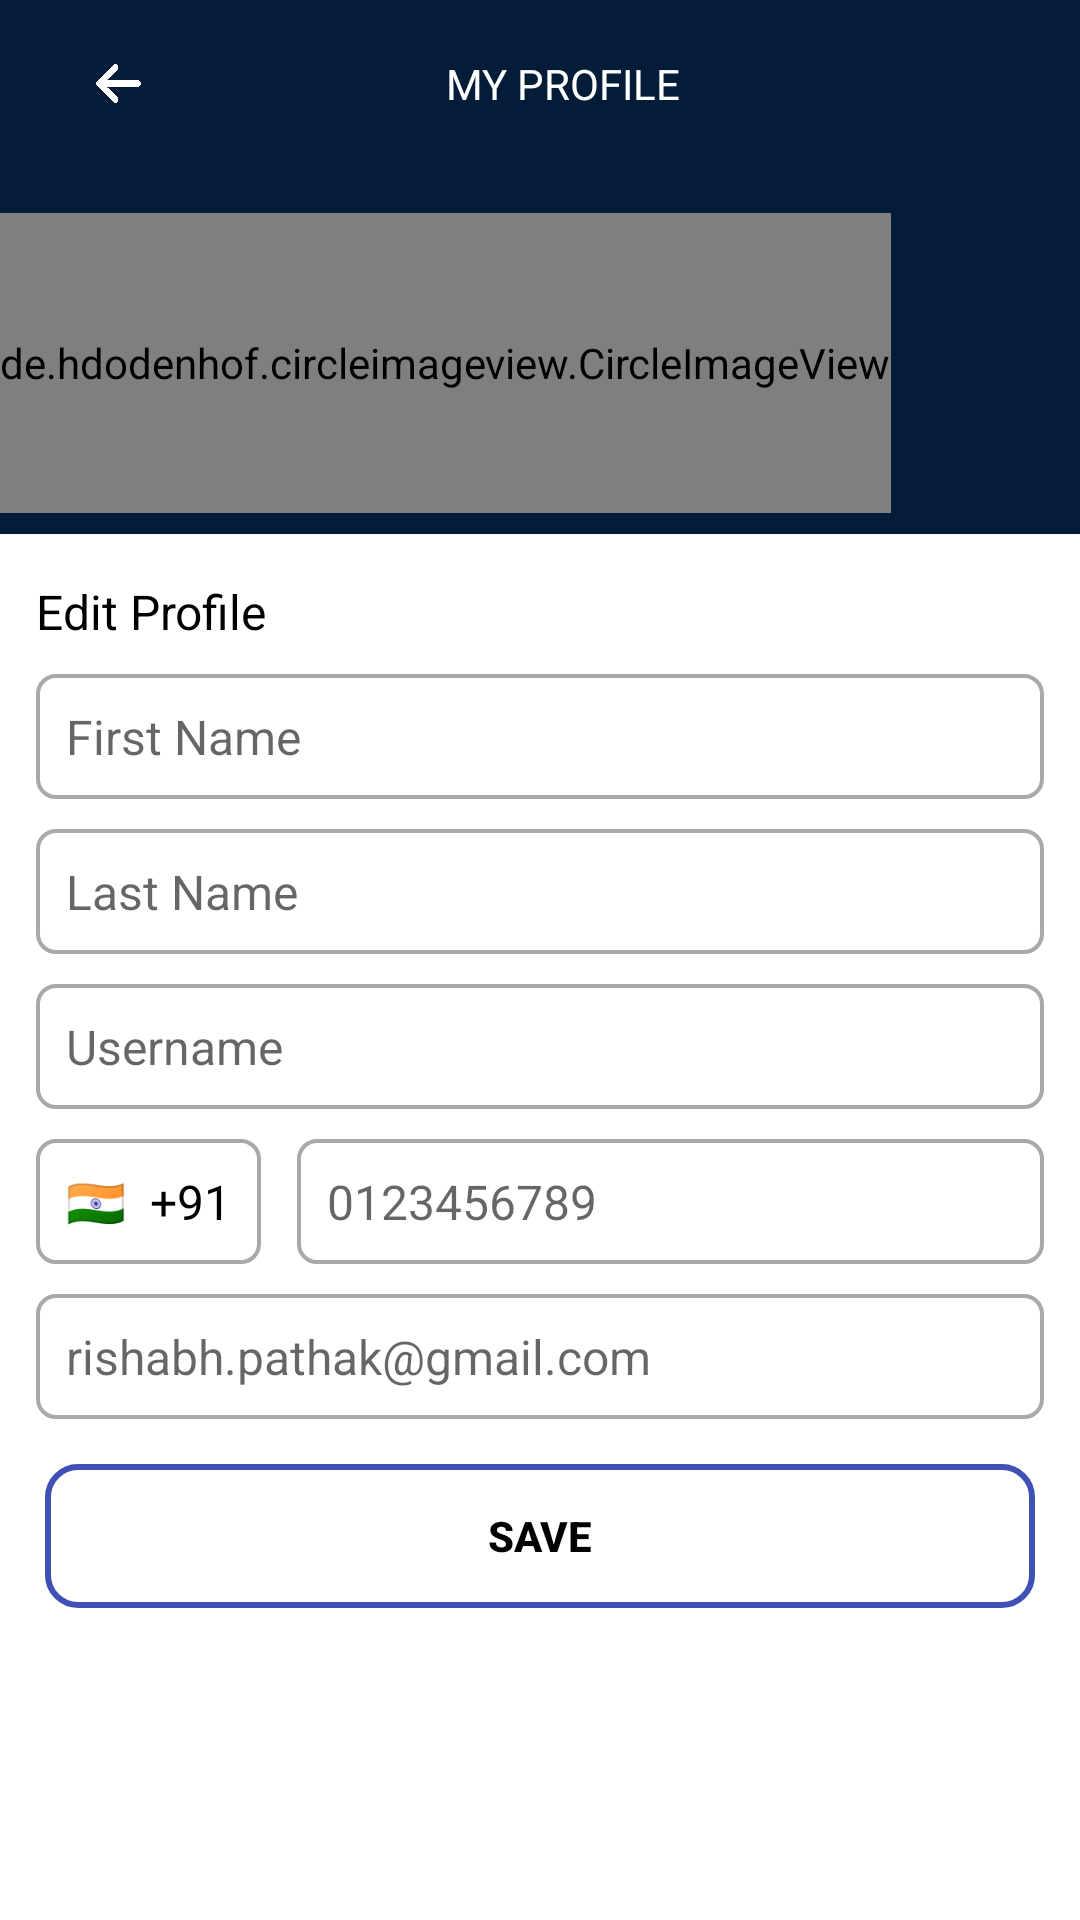

Point at icon controls on the screen. Image size 1080px×1920px, points as point (x, y).
Back: point (118, 83)
